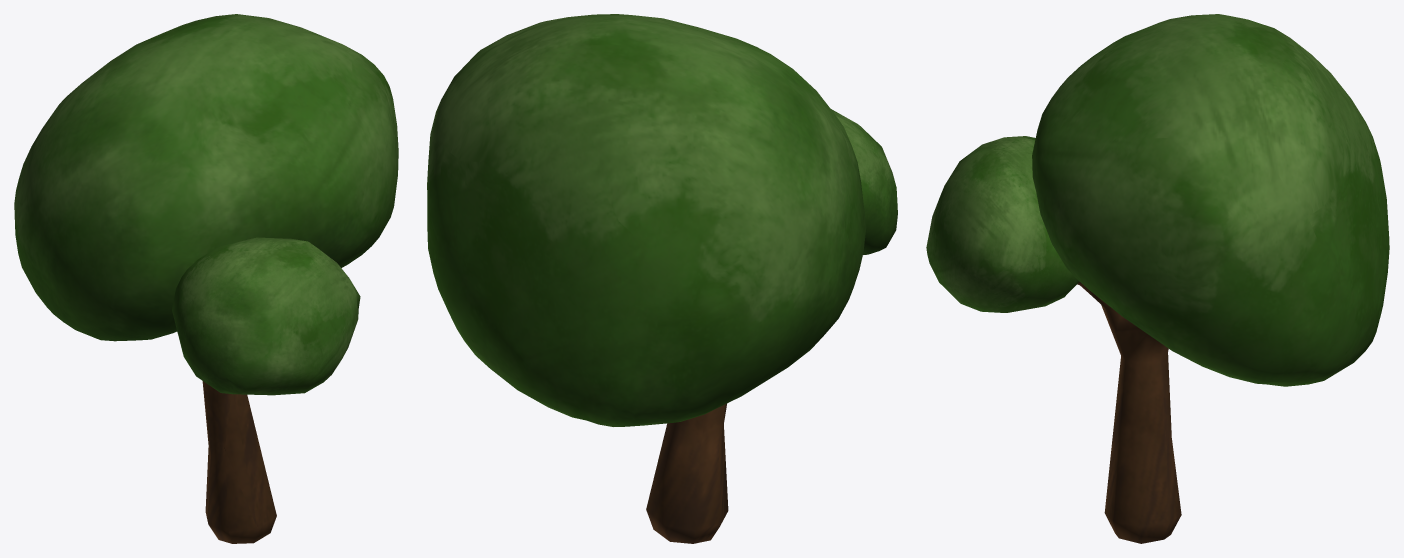
File: oak.glb
3 views of the same model, side by side, from view 1: azimuth 30°, elevation 25°; view 2: azimuth 150°, elevation 25°; view 3: azimuth 270°, elevation 25° (orthographic). The views are drawn at different scales.
Parts seen in each view (by area): view 1: Oak_Tree_Bush_2; view 2: Oak_Tree_Bush_2; view 3: Oak_Tree_Bush_2.
Part boxes in pixels (left/top/right/bottom): Oak_Tree_Bush_2: left=14, top=14, right=398, bottom=543; Oak_Tree_Bush_2: left=427, top=14, right=897, bottom=543; Oak_Tree_Bush_2: left=926, top=14, right=1389, bottom=543.
Bounding box in the file's own units: 3.91 × 5.16 × 4.24.
1 material, 1 textured.
